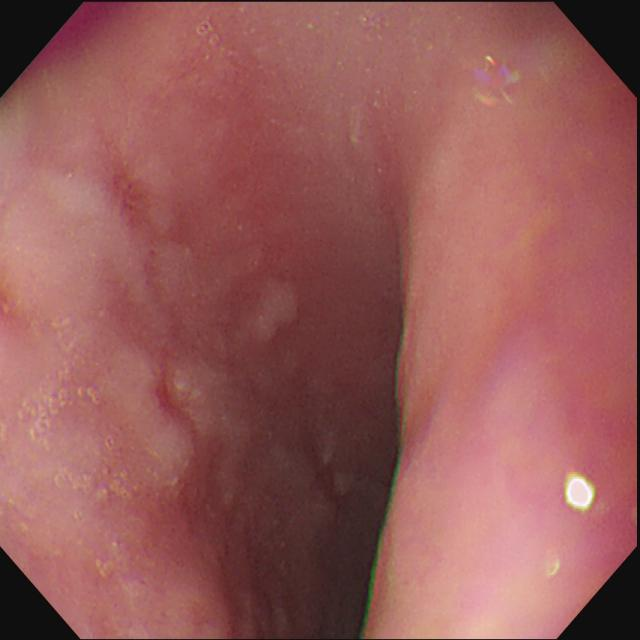J: (5, 168, 290, 565)
T: (9, 318, 135, 508)
U: (563, 473, 601, 519)
